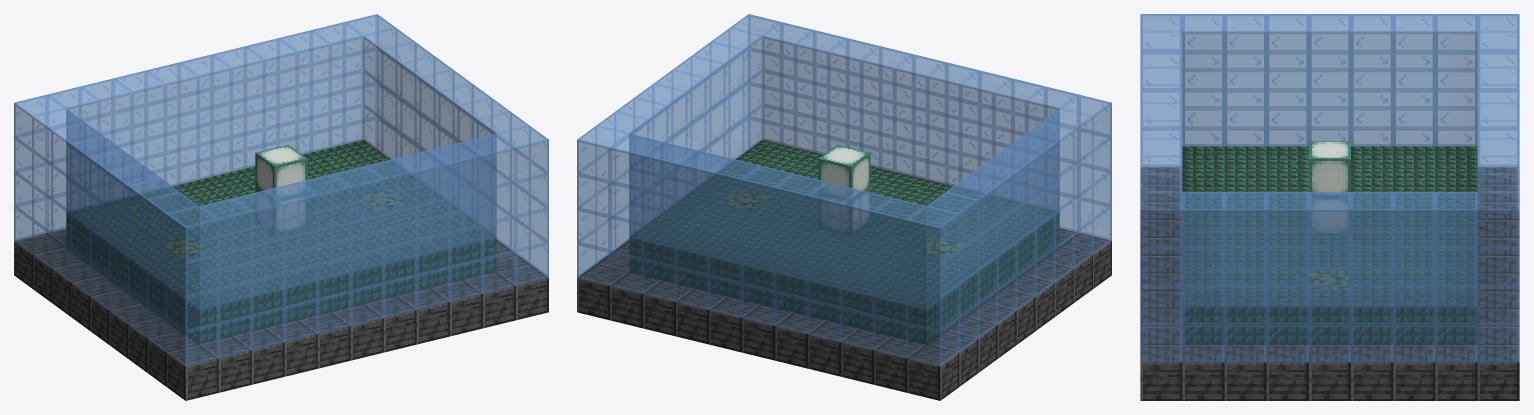
The model's file is render-lab.glb.
3 renders of one model, left to right at view 1: azimuth 30°, elevation 25°; view 2: azimuth 150°, elevation 25°; view 3: azimuth 270°, elevation 25°, orthographic. The views are drawn at different scales.
Size of the model in its own units: 11 by 5 by 9.
Materials: 3 (3 with a texture image).
